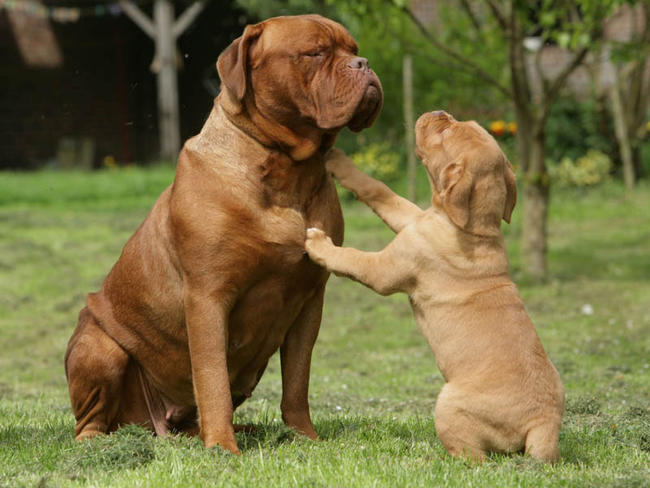dogue_de_bordeaux: (62, 12, 383, 456), (304, 110, 566, 463)
